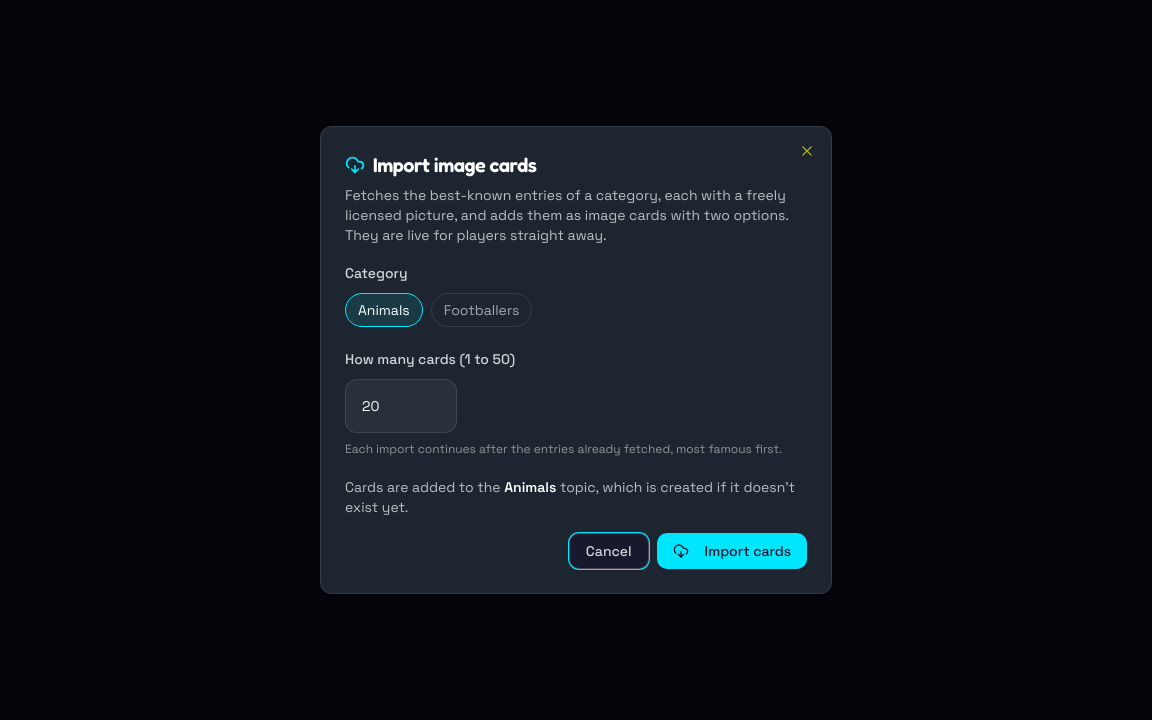
Test: ImportCardsDialog › imports a category into its own topic and reports what was added and skipped
expect the radio button labelled "Animals" is shown: met, box [345,293,423,327]
Click the button "Import cards" at {"x": 732, "y": 551}, box [657,533,807,569]
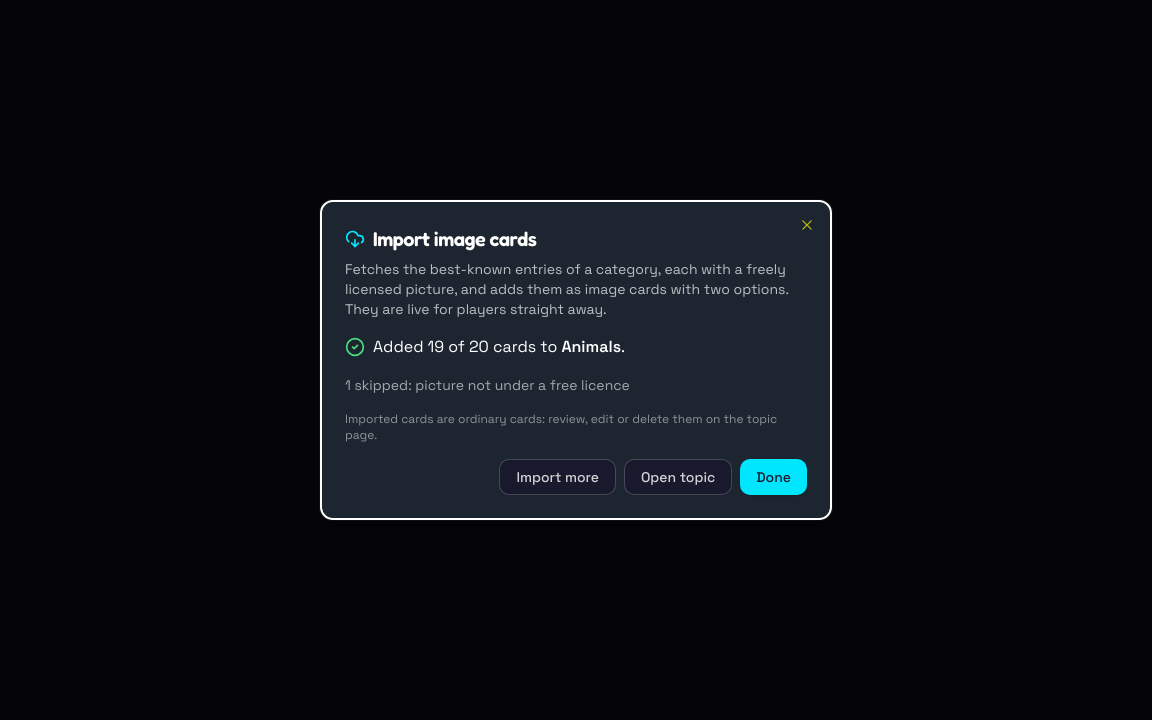
expect the text "Added 19 of 20 cards to Animals." is shown: met, box [373,335,625,359]
expect the list item "1 skipped: picture not under a free licence" is shown: met, box [345,376,630,394]
